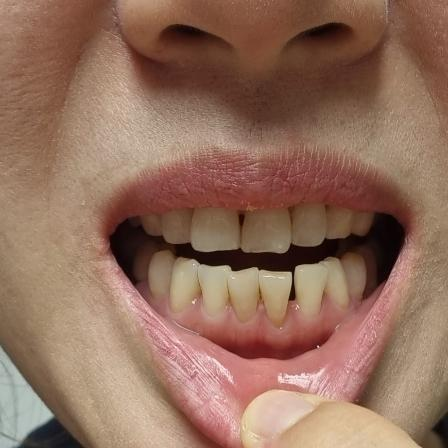Crowding: (196, 266, 258, 315), (319, 250, 364, 306)
Gap: (259, 264, 318, 318)
